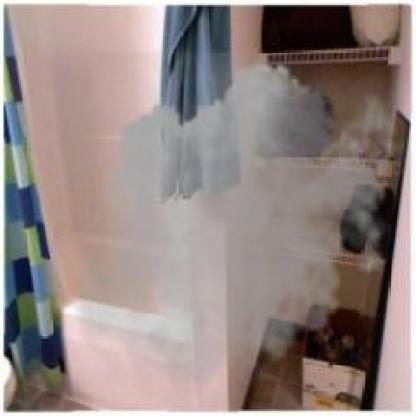Smoke: (65, 52, 408, 413)
